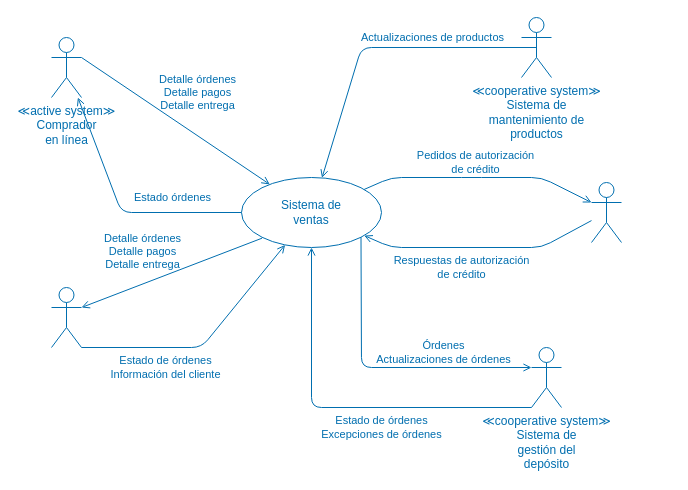
Some shapes in this 688 by 490 pixel diagram are drawn without their labels. The shapes that lost their labels are listed below. From the top down, each one's box as (x1, y1, x2, y2) in pixels, then its label:
(590, 182, 622, 242): ≪ cooperative system≫ Sistema de autorización de crédito
(50, 286, 82, 348): ≪active system≫ Vendedor telefónico
